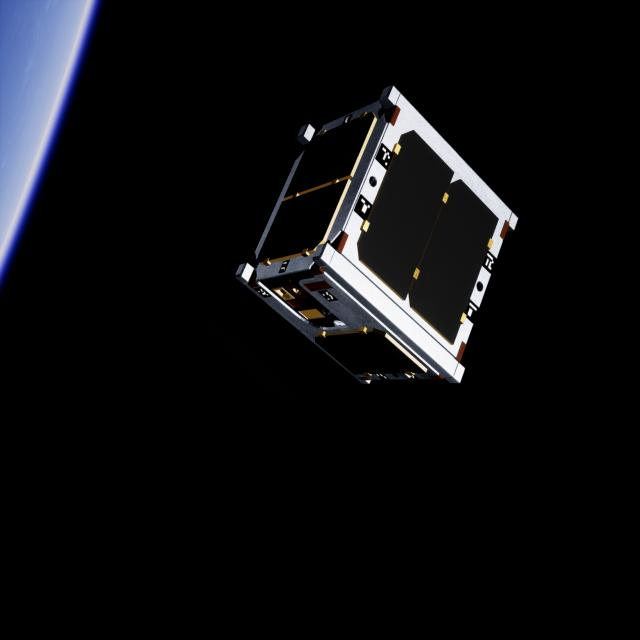satellite: (233, 84, 520, 397)
